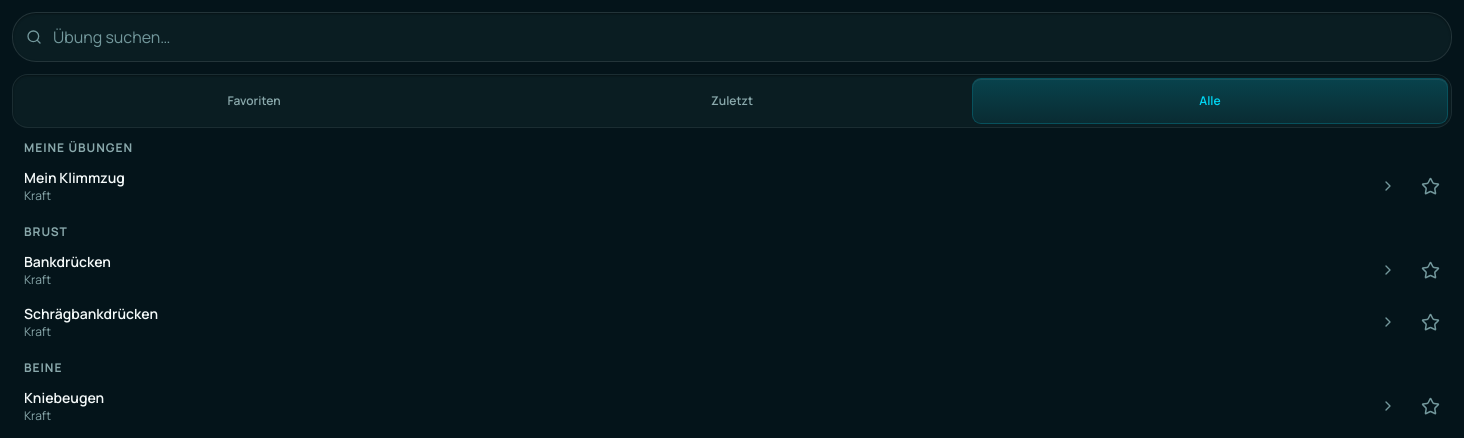
Scenario: ExercisePicker tabs › empty tabs explain themselves
Click the tab "Favoriten". click: (254, 101)
box: [17,79,491,123]
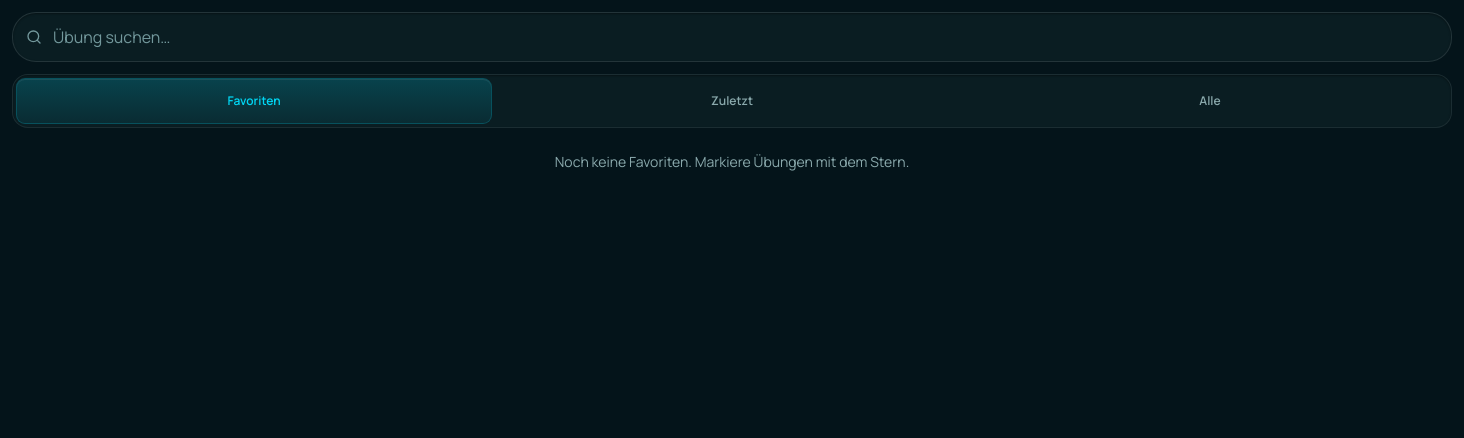
Check: the text "Noch keine Favoriten. Markiere Übungen mit dem Stern." is shown, box [555,152,909,171]
Click the tab "Zuletzt". click: (732, 101)
box: [495,79,969,123]
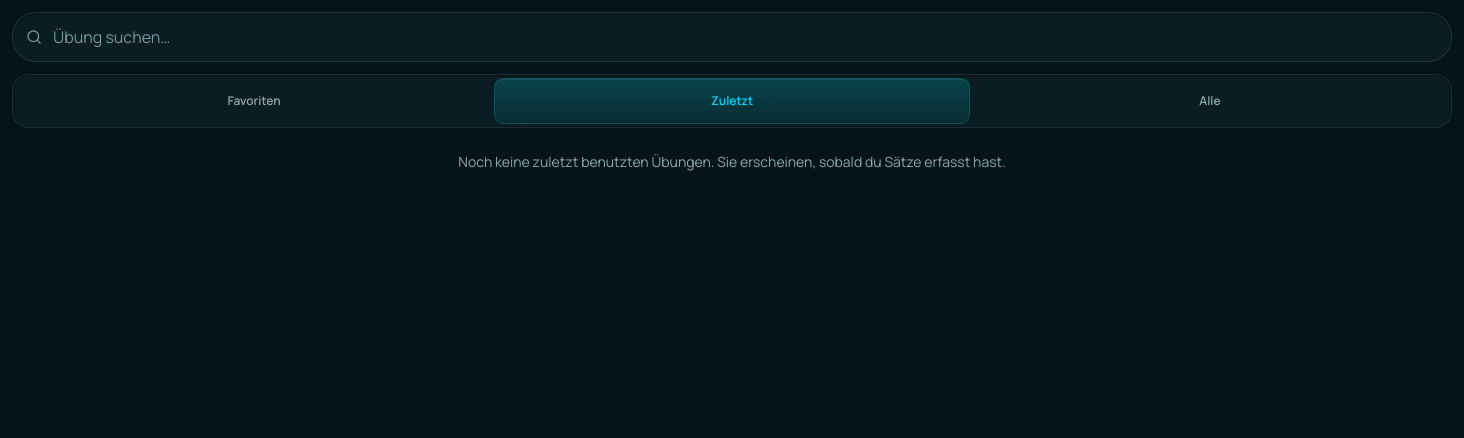
Check: the text "Noch keine zuletzt benutzten Übungen." is shown, box [458,152,1006,171]
